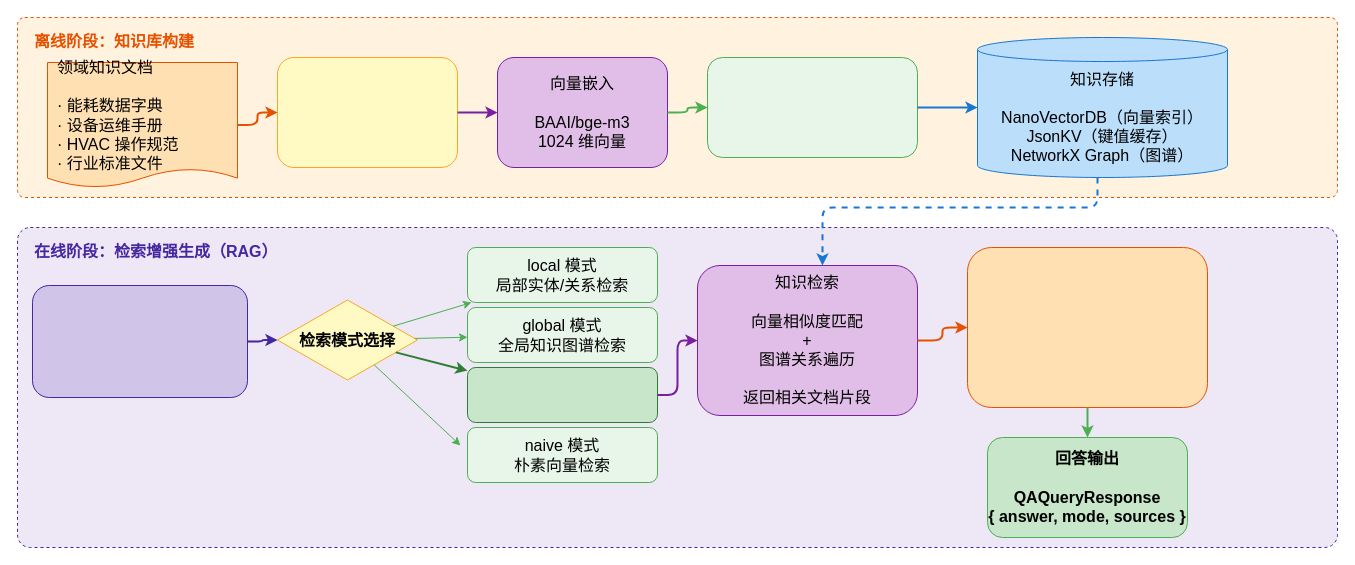
Some shapes in this 1355 by 565 pixel diagram are drawn without their labels. Each missing label, with the centre of its shape:
"hybrid 模式（推荐） 混合检索" belongs at (x=562, y=394).
"LLM 生成回答 Qwen2.5-7B-Instruct （via SiliconFlow API） 基于检索上下文 生成专业回答" belongs at (x=1087, y=327).
"文档分块 DocumentProcessor 自动分割文本块" belongs at (x=367, y=112).
"用户提问 「BLD-001 上周 电力异常原因？」" belongs at (x=140, y=341).
"知识图谱构建 LLM 抽取实体与关系 NetworkX 构建图结构" belongs at (x=812, y=107).
